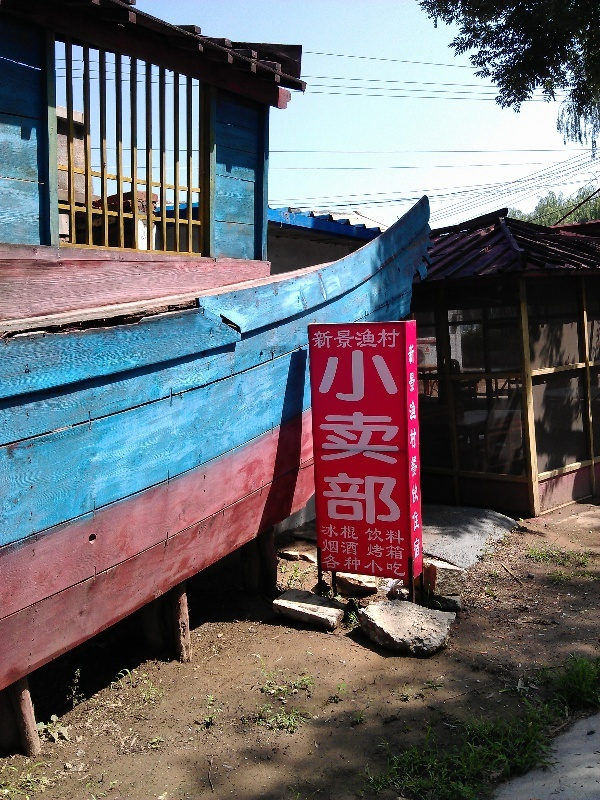text: (321, 350, 336, 527), (337, 350, 352, 527), (353, 350, 368, 527), (369, 350, 384, 527), (385, 350, 400, 527), (407, 341, 416, 560), (417, 341, 422, 560), (315, 350, 320, 527), (401, 350, 405, 527), (337, 553, 352, 577), (353, 553, 368, 577), (369, 553, 384, 577), (385, 553, 400, 577), (385, 328, 401, 349), (322, 553, 336, 577), (321, 328, 336, 349), (337, 328, 352, 349), (353, 328, 368, 349), (369, 328, 384, 349), (369, 543, 384, 562), (385, 543, 400, 562), (321, 523, 336, 541), (337, 523, 352, 541), (337, 538, 352, 555), (369, 527, 384, 544), (385, 527, 400, 544), (322, 538, 336, 555), (312, 328, 320, 349), (353, 523, 360, 541), (401, 553, 406, 577), (353, 538, 359, 555), (401, 543, 405, 562), (364, 527, 368, 544), (401, 527, 405, 544), (367, 543, 368, 562)
